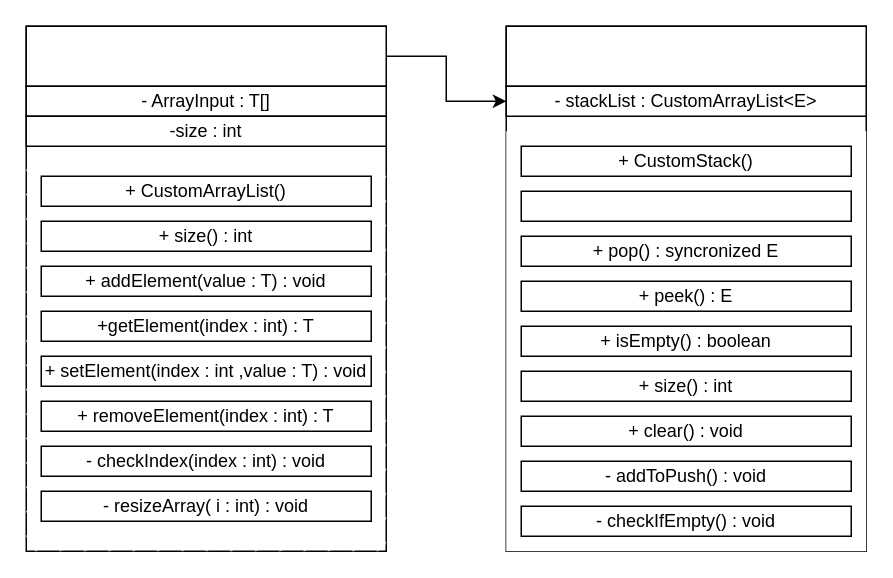
The diagram is 893 pixels wide and 578 high, and some of its shapes have lost their labels. Here are the shapes that lost their labels. From the top down, the centre of each, then its label:
point (205, 55): CustomArrayList<T>
point (685, 55): CustomStack<E>
point (685, 205): + push(item: E) : E
